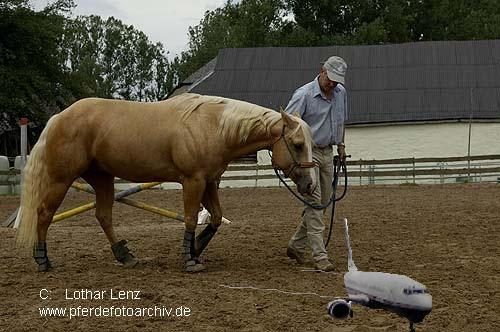tampered: (220, 219, 432, 332)
